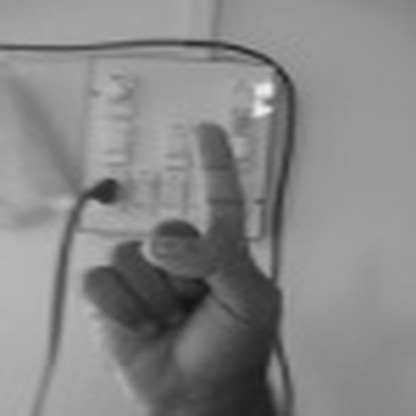d: (83, 118, 285, 398)
